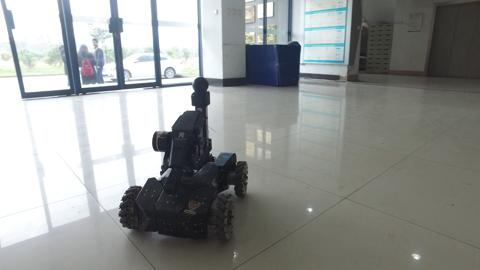chariot: (115, 75, 251, 246)
